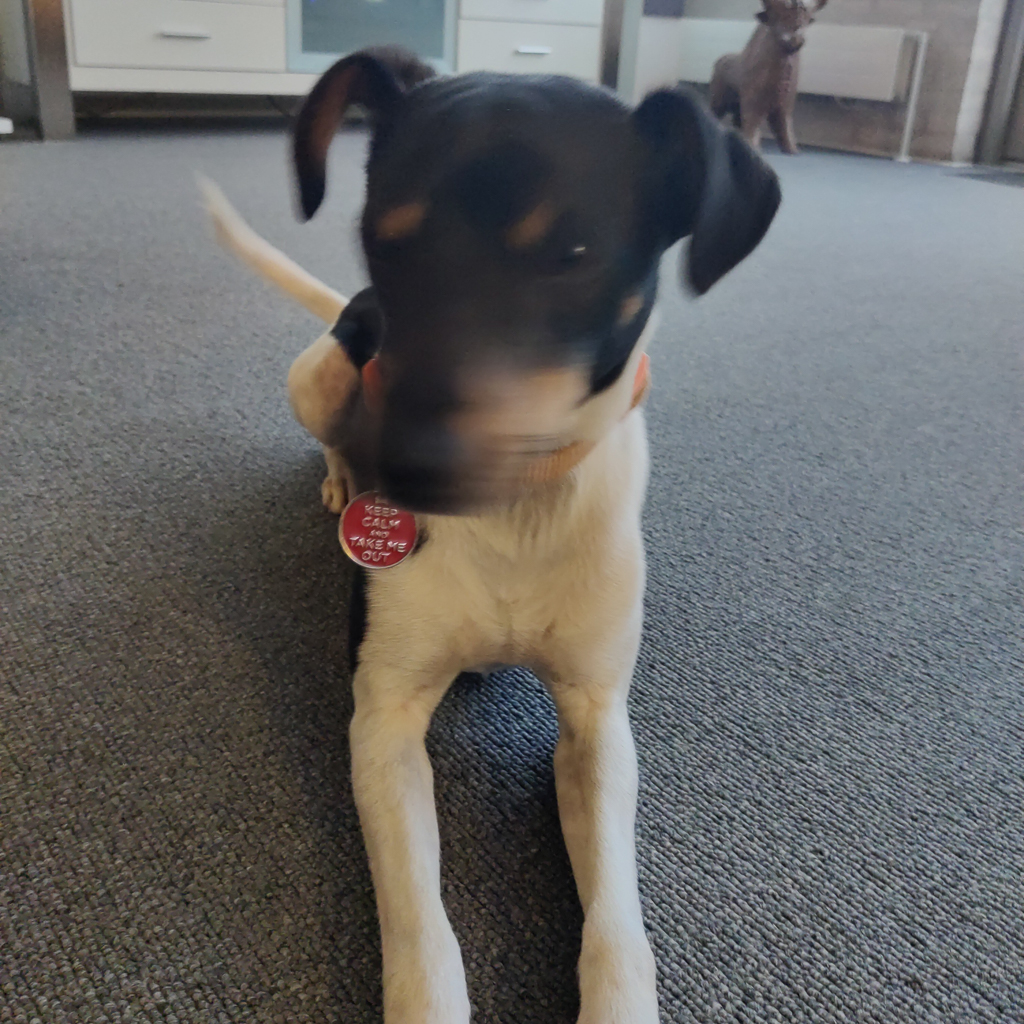Cattle: (682, 0, 842, 168)
Dog: (161, 16, 814, 1024)
